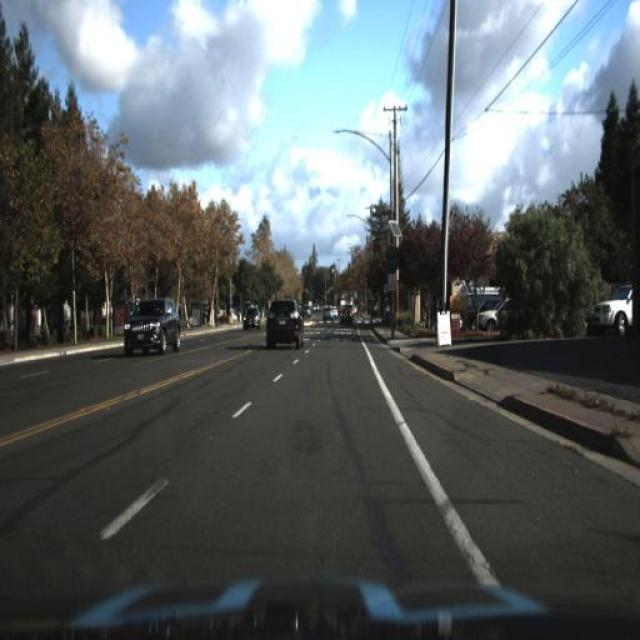car: (118, 291, 184, 361), (261, 290, 313, 362), (474, 296, 515, 338), (234, 302, 265, 336), (338, 304, 353, 324)
